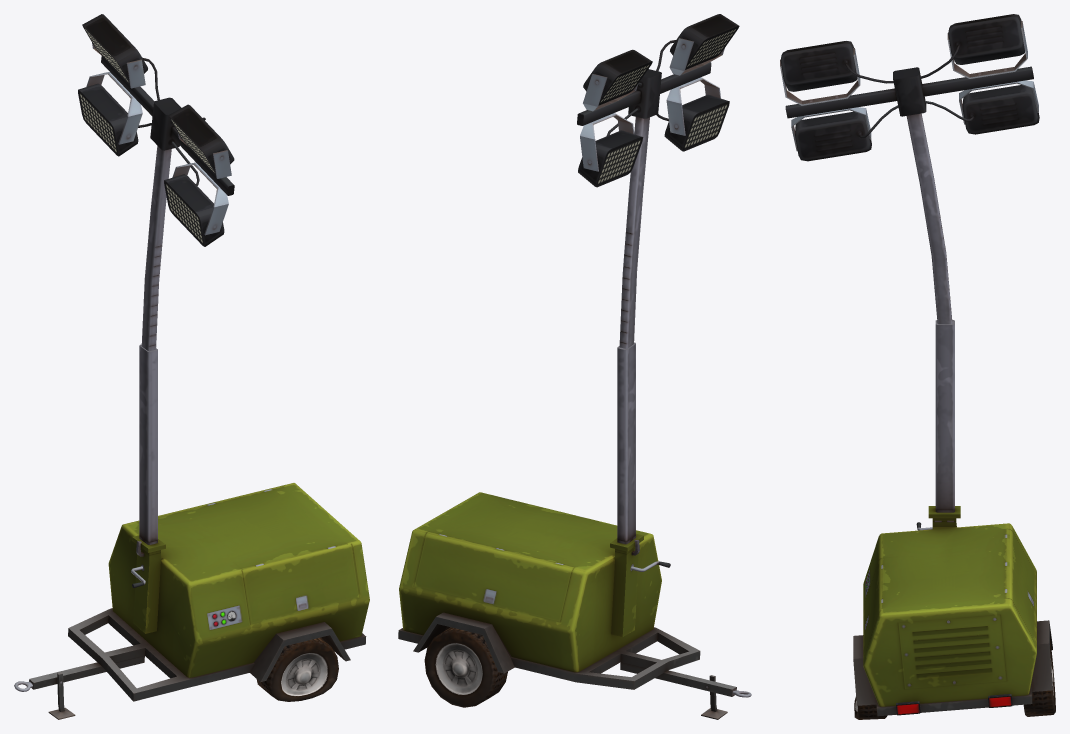
Rendered from TrailerLight01_2.FBX.
The picture shows the model from 3 angles, left to right: view 1: azimuth 30°, elevation 25°; view 2: azimuth 150°, elevation 25°; view 3: azimuth 270°, elevation 25°; orthographic projection. The views are drawn at different scales.
Visible parts, largest first — view 1: TrailerLight01_2; view 2: TrailerLight01_2; view 3: TrailerLight01_2.
Part boxes in pixels (bbox=[...]): TrailerLight01_2: bbox=[14, 14, 369, 719]; TrailerLight01_2: bbox=[398, 14, 751, 719]; TrailerLight01_2: bbox=[780, 14, 1055, 719].
Size of what is drawn, in the model's own units: 3.18 by 6.33 by 2.48.
